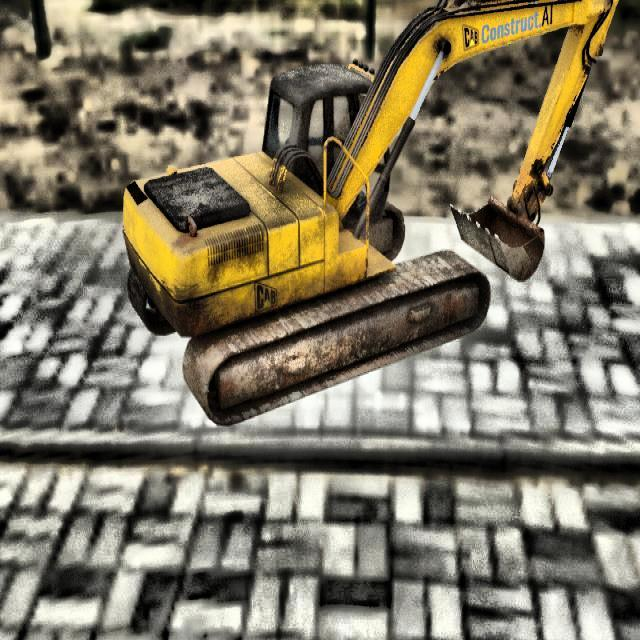excavator: (122, 0, 619, 428)
